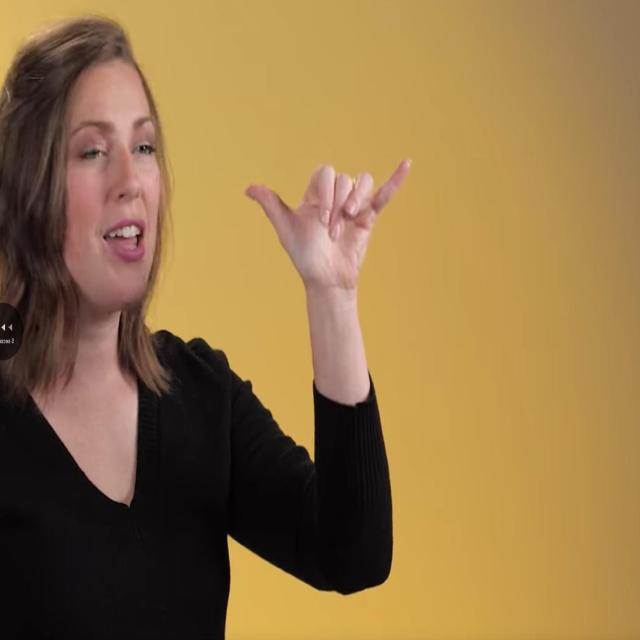Y: (241, 150, 418, 290)
